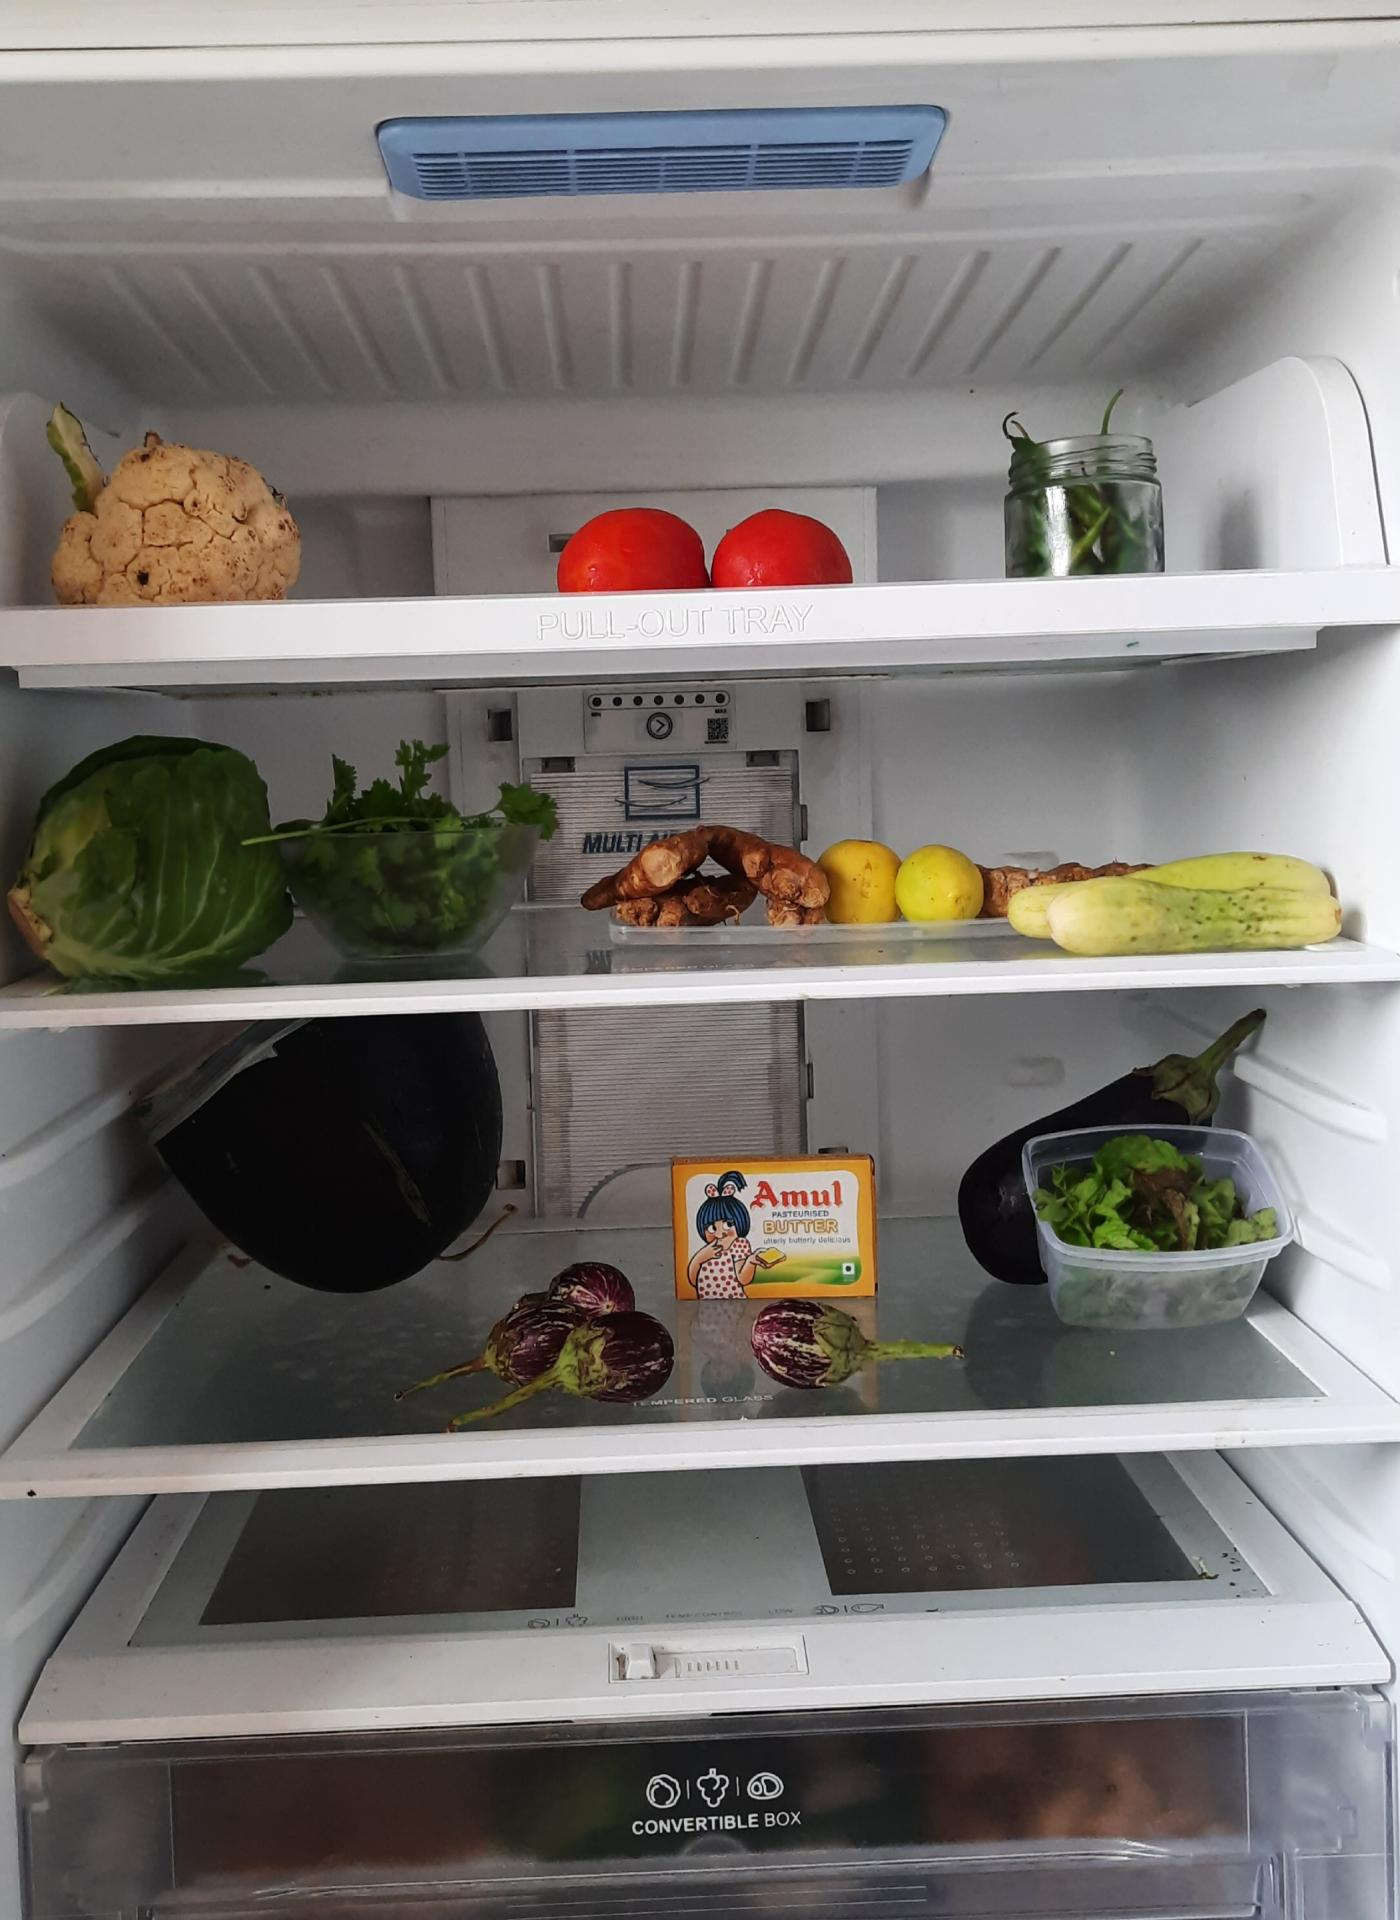basil: (1035, 1149, 1279, 1316)
brinjal: (948, 1000, 1267, 1289), (437, 1266, 677, 1406), (745, 1300, 968, 1400)
butter: (671, 1148, 881, 1294)
cabbage: (10, 741, 292, 990)
cauliflower: (49, 428, 306, 613)
chillies: (1005, 400, 1167, 575)
coriander: (300, 747, 540, 957)
cucumber: (1008, 850, 1361, 953)
ginger: (589, 824, 826, 927)
lemon: (823, 836, 990, 923)
tomato: (555, 513, 854, 596)
watermelon: (133, 1011, 513, 1286)
